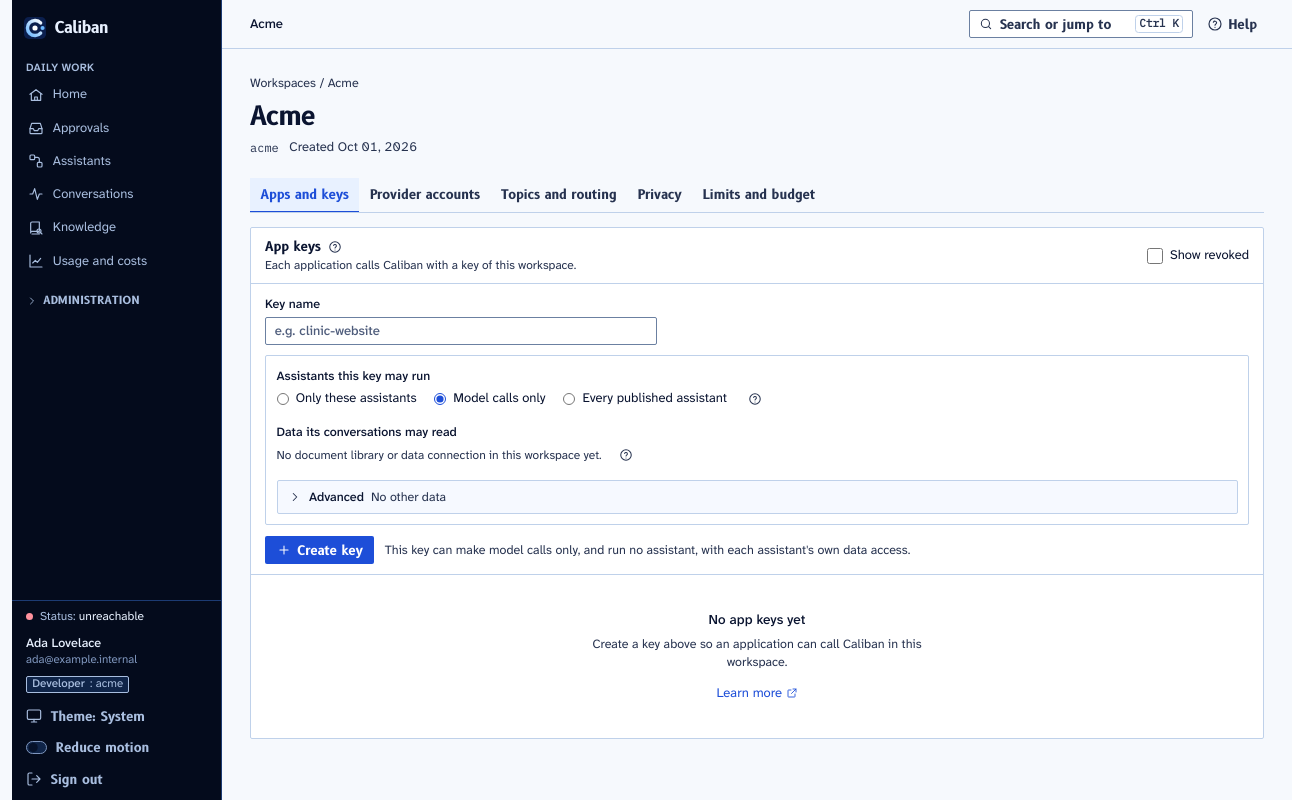
Test: Console session (single sign-on) › shows a 403 on a write in the form, in plain words
What coordinates should you click on to do the following:
click the button "Create key"
I would click on:
 (320, 550)
Its box is [265, 536, 374, 564].
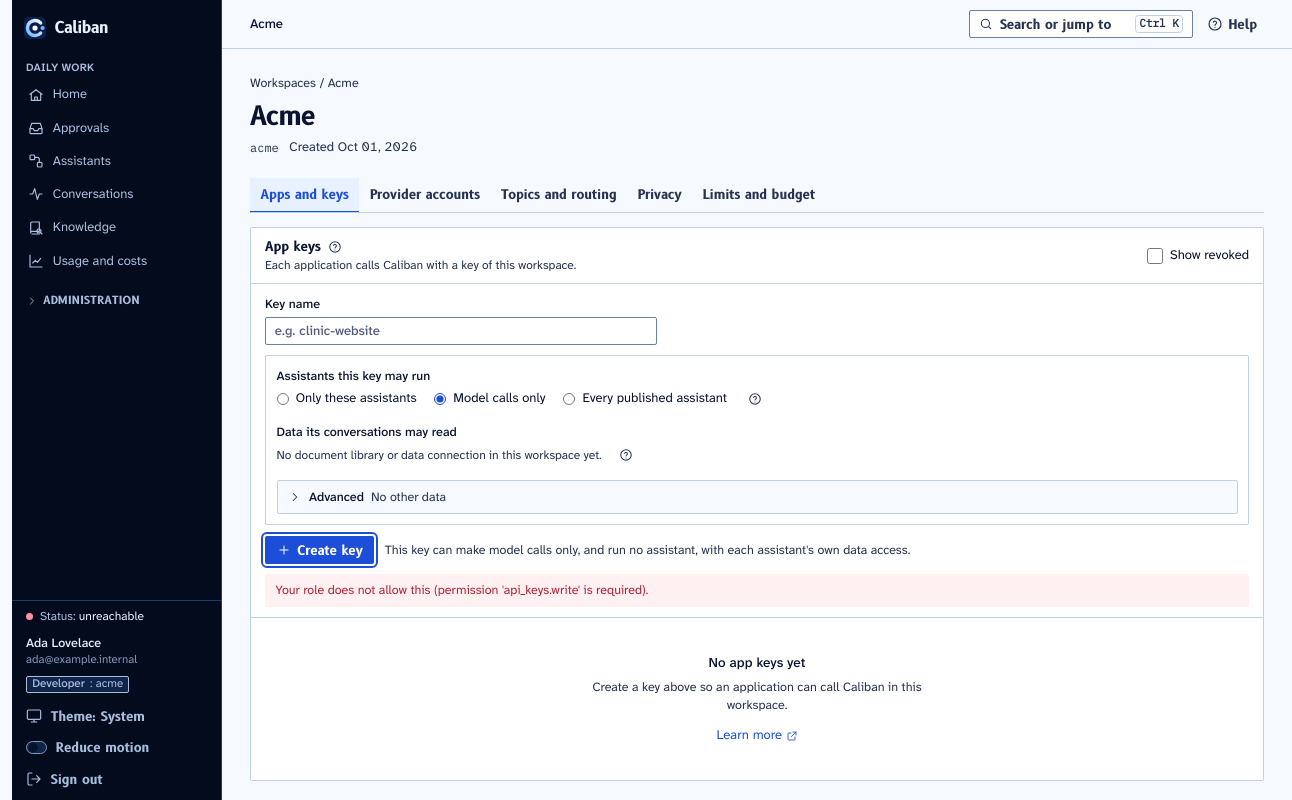
Expected: the message reads "Your role does not allow this (permission 'api_keys.write' is required).", [276, 582, 648, 598]
